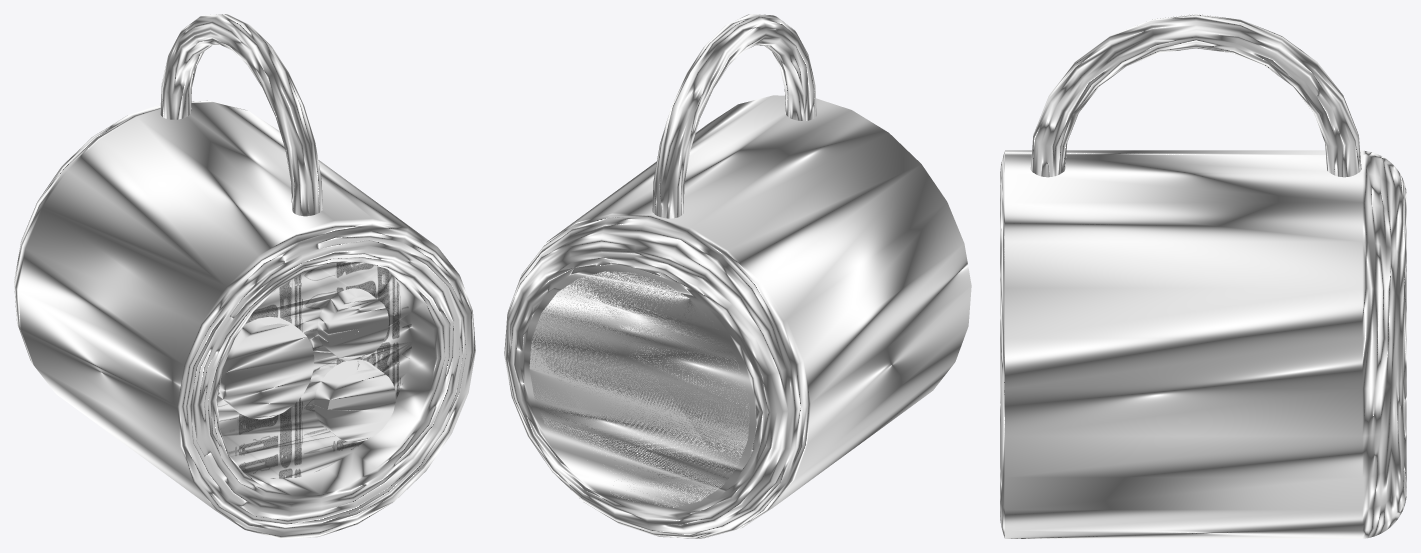
Rendered from model_align.obj.
The picture shows the model from 3 angles, left to right: view 1: azimuth 30°, elevation 25°; view 2: azimuth 150°, elevation 25°; view 3: azimuth 270°, elevation 25°; orthographic projection. The views are drawn at different scales.
Bounding box in the file's own units: 0.0787 × 0.113 × 0.0825.
